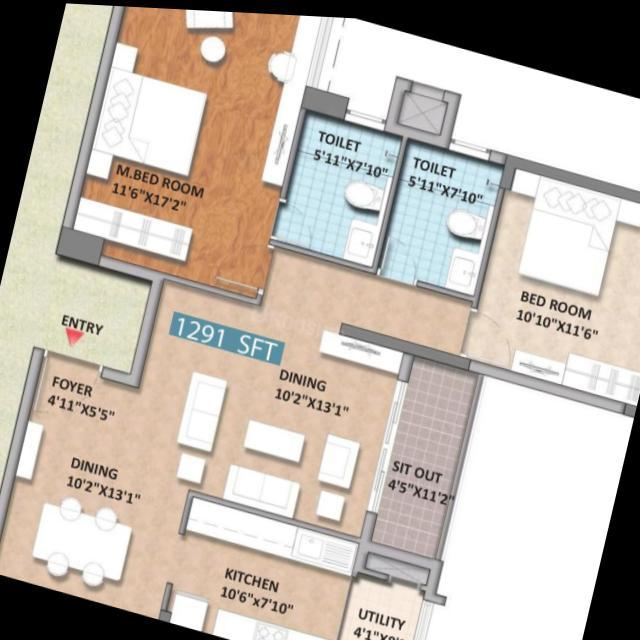Balcony-Sitout: (369, 352, 483, 554)
Bedroom: (464, 154, 640, 404)
Bedroom with Toilet: (54, 5, 404, 306)
Dining: (23, 487, 143, 597)
Enterance-Foyer: (13, 306, 121, 467)
Kitchen: (157, 491, 360, 640)
Living: (163, 291, 411, 536)
Toilet: (371, 129, 510, 302), (268, 101, 407, 274)
Utility: (342, 540, 443, 640)
